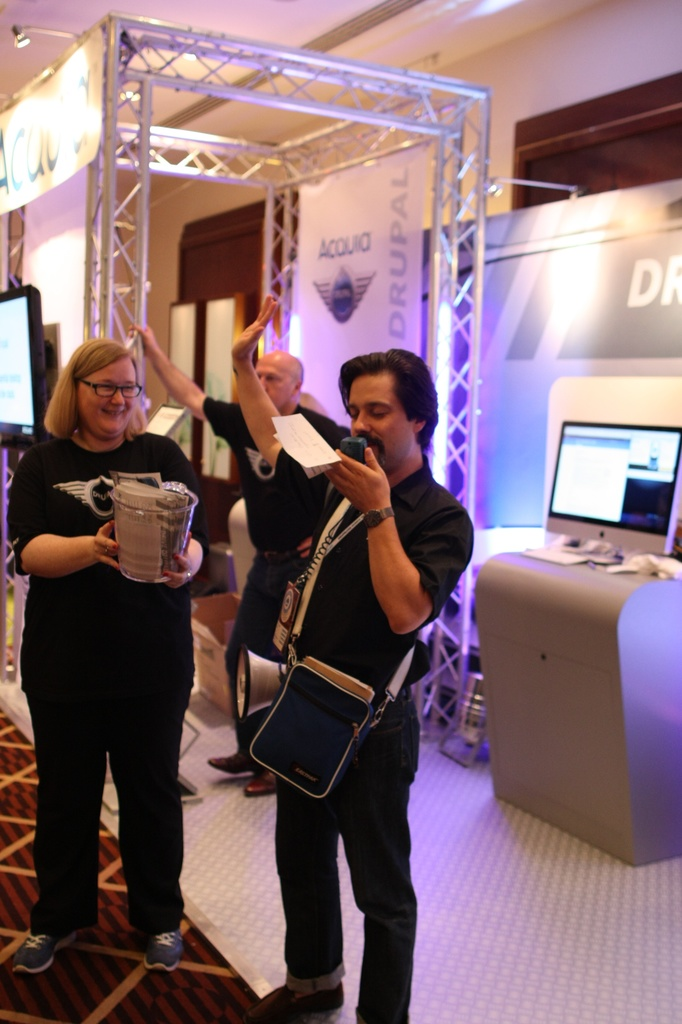Human_hand: (320, 448, 401, 519), (229, 291, 278, 365), (159, 532, 199, 594), (89, 523, 122, 575), (127, 320, 158, 360)
